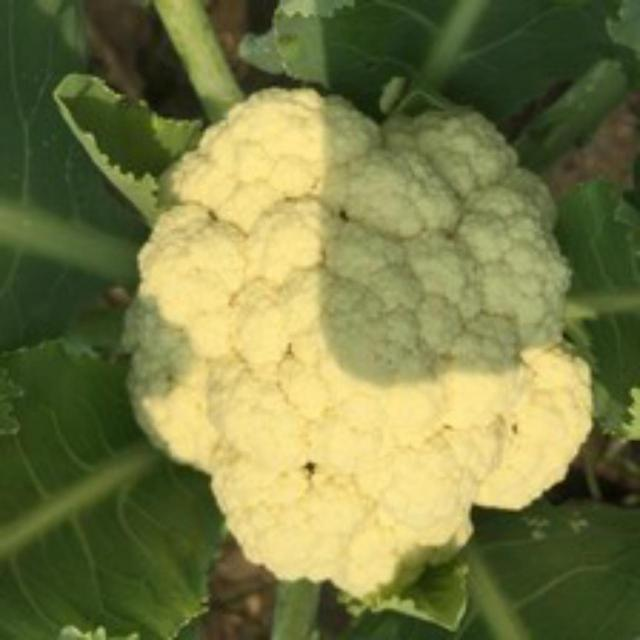cauliflower: (104, 87, 616, 607)
